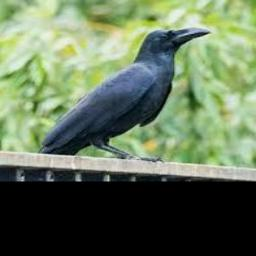Crow: (23, 27, 212, 181)
